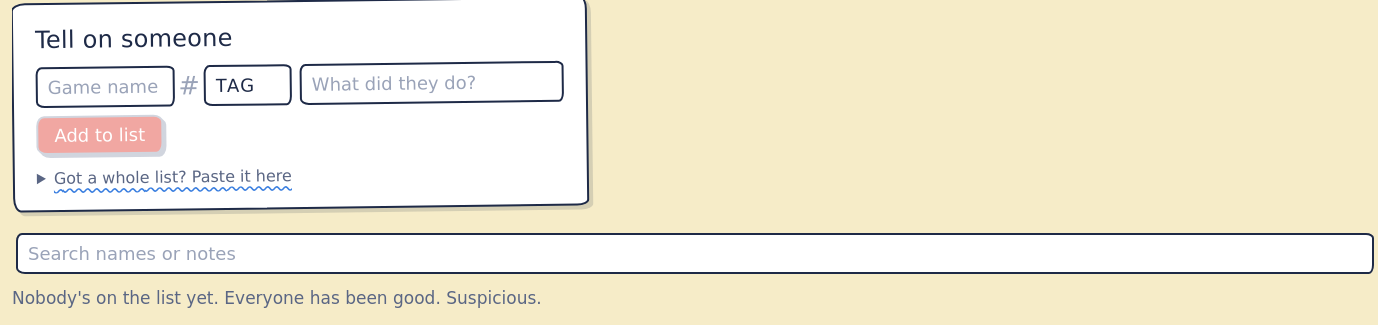
Test: NaughtyList › splits a pasted Name#TAG across the two boxes
This screenshot has width=1378, height=325.
Click the field labelled "Game name" at (105, 87), box [36,66,174,108]
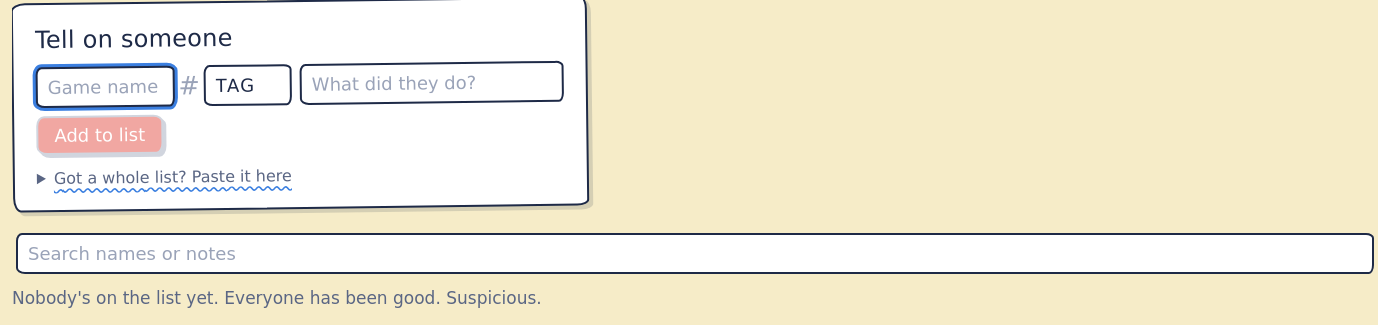
Type keys "T1 T1 T1#OCE"
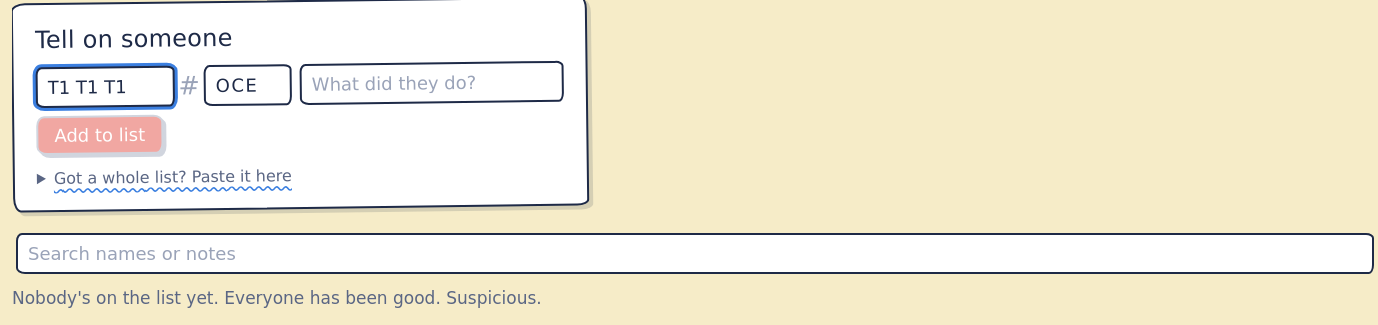
Expected: the field named "Game name" holds "T1 T1 T1", [36,66,174,108]
Expected: the field named "TAG" holds "OCE", [204,64,292,106]
